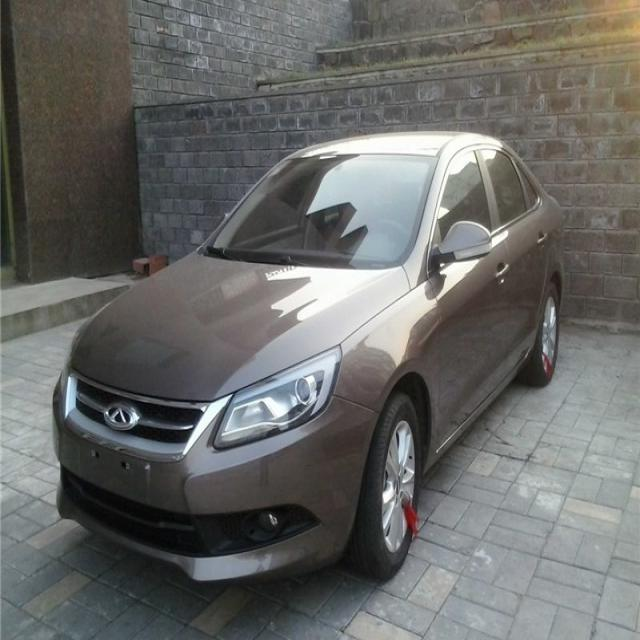door: (478, 152, 554, 346)
front_bumper: (52, 367, 382, 582)
front_glass: (205, 152, 438, 266)
front_left_side_door: (425, 140, 515, 458)
front_left_side_light: (210, 342, 344, 454)
front_left_side_mirror: (426, 219, 492, 272)
wheel: (340, 394, 422, 580), (523, 280, 563, 384)
